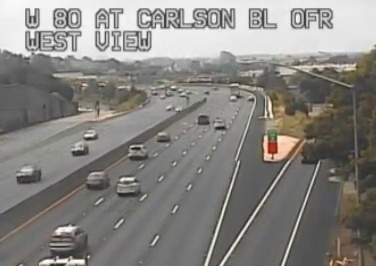car: (50, 226, 87, 252), (116, 176, 140, 194), (86, 171, 109, 187), (127, 144, 146, 159)
